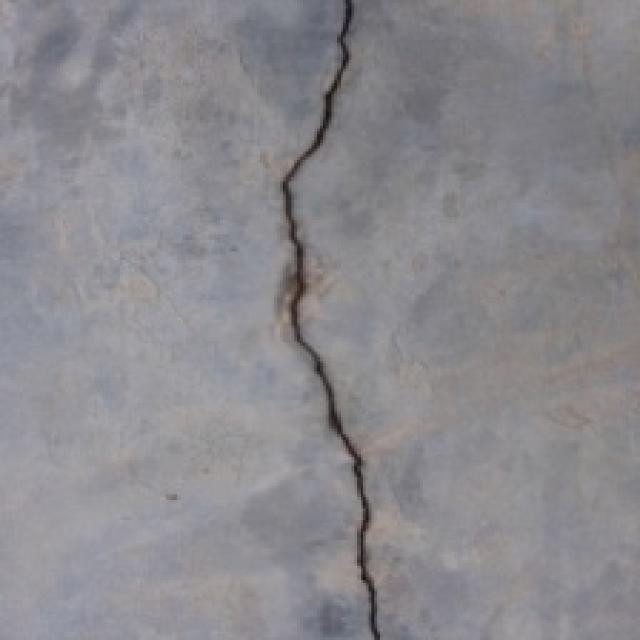crack: (262, 0, 424, 640)
